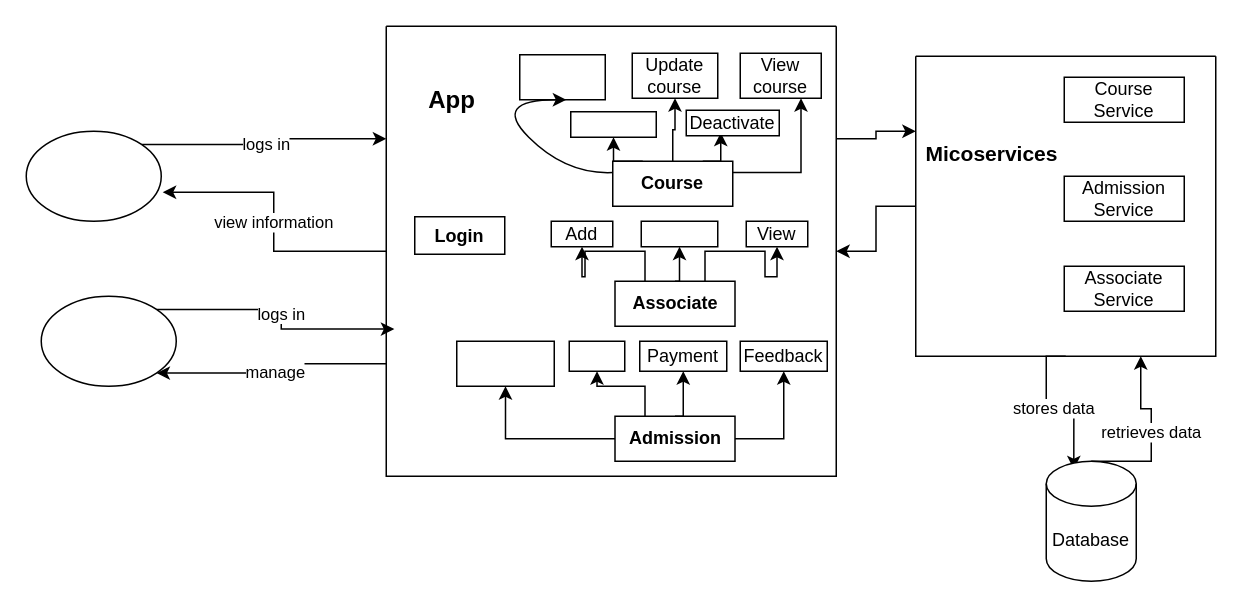
Some shapes in this 1242 by 608 pixel diagram are drawn without their labels. The shapes that lost their labels are listed below. From the top down, each one's box as (x1, y1, x2, y2) in pixels, then its label:
(518, 53, 605, 100): Add Course
(569, 110, 656, 137): Ratings
(25, 130, 161, 221): User
(640, 220, 718, 247): Update
(40, 295, 176, 386): Admin
(568, 340, 625, 371): fee
(455, 340, 554, 386): Associate registration
